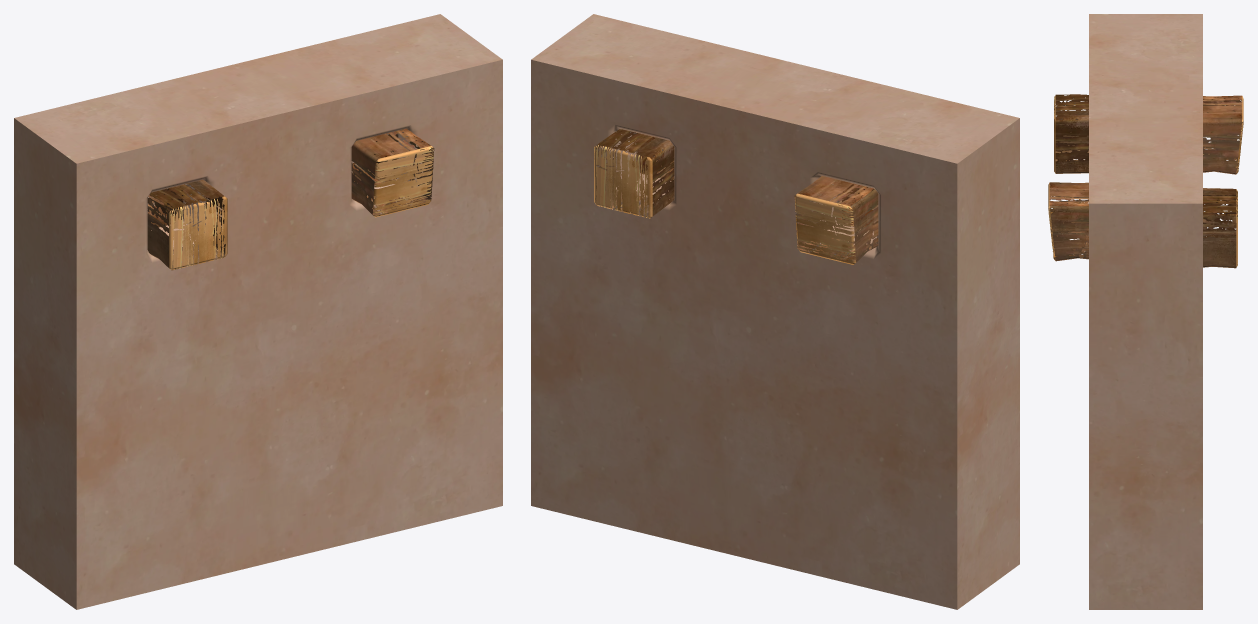
3 renders of one model, left to right at view 1: azimuth 30°, elevation 25°; view 2: azimuth 150°, elevation 25°; view 3: azimuth 270°, elevation 25°, orthographic. The views are drawn at different scales.
Parts seen in each view (by area): view 1: SM_BB_T4_Wall_Med_02_LOD0; view 2: SM_BB_T4_Wall_Med_02_LOD0; view 3: SM_BB_T4_Wall_Med_02_LOD0.
Part boxes in pixels (x1=…): SM_BB_T4_Wall_Med_02_LOD0: x1=14, y1=14, x2=502, y2=609; SM_BB_T4_Wall_Med_02_LOD0: x1=531, y1=14, x2=1019, y2=609; SM_BB_T4_Wall_Med_02_LOD0: x1=1048, y1=14, x2=1243, y2=609.
Bounding box in the file's own units: 1.5 × 1.5 × 0.6542.
2 materials, 2 textured.
